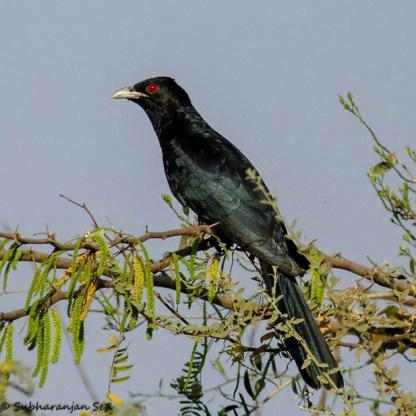Burung: (111, 76, 343, 389)
